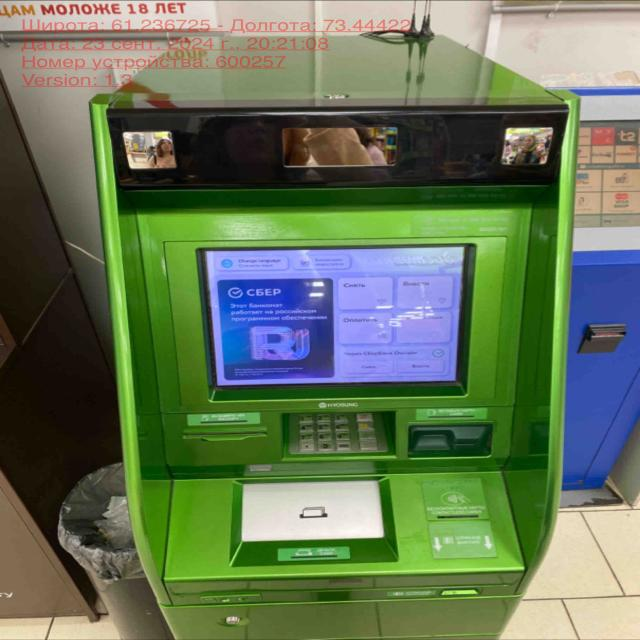bank: (90, 31, 581, 640)
